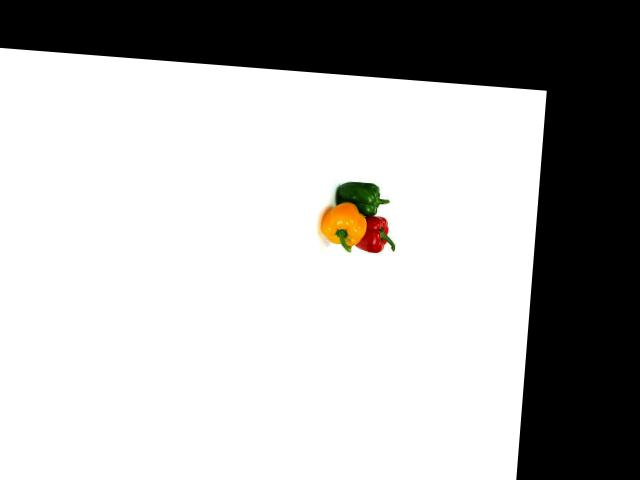bell_pepper: (348, 208, 402, 261)
